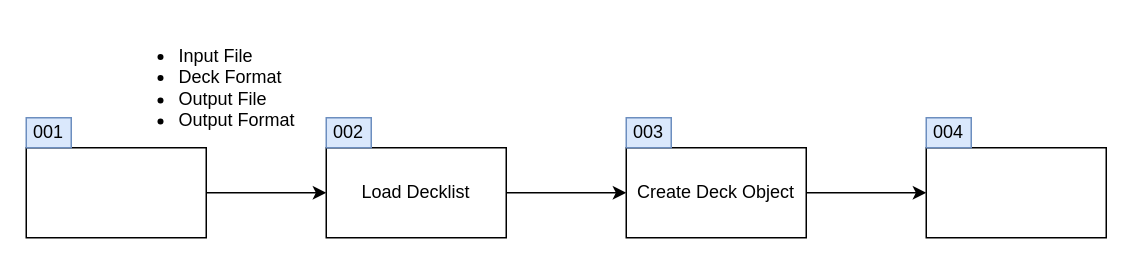
Image size: 1133x264. Some labels were removed from this diagram. Each missing label, with the centre of its shape:
Output Data: (x=1015, y=192)
Start Program Parse Arguments: (x=115, y=192)
